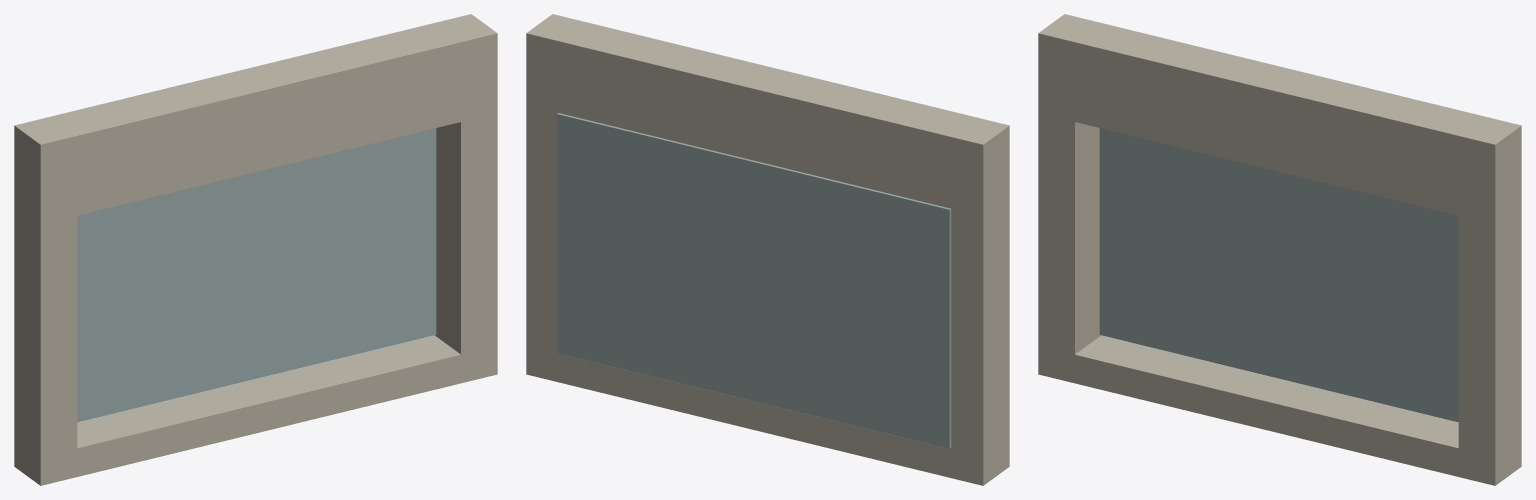
File: iz3_neighborhood_pencere_dar.glb
3 views of the same model, side by side, from view 1: azimuth 30°, elevation 25°; view 2: azimuth 150°, elevation 25°; view 3: azimuth 330°, elevation 25° (orthographic).
Visible parts, largest first — view 1: glass, lintel, sill, jamb_l, jamb_r; view 2: glass, lintel, jamb_l, sill, jamb_r; view 3: glass, lintel, sill, jamb_r, jamb_l.
Boxes of the visible parts, <box> form: glass: <box>77,128,436,422</box>; lintel: <box>14,14,497,224</box>; sill: <box>14,335,497,485</box>; jamb_l: <box>14,190,77,463</box>; jamb_r: <box>435,97,497,360</box>; glass: <box>556,113,951,448</box>; lintel: <box>526,14,1009,224</box>; jamb_l: <box>946,190,1009,463</box>; sill: <box>526,346,1009,485</box>; jamb_r: <box>526,97,562,359</box>; glass: <box>1099,128,1458,422</box>; lintel: <box>1038,14,1521,224</box>; sill: <box>1038,335,1521,485</box>; jamb_r: <box>1458,190,1521,463</box>; jamb_l: <box>1038,97,1100,360</box>.
Size of the model in its own units: 3 by 2.14 by 0.3175.
